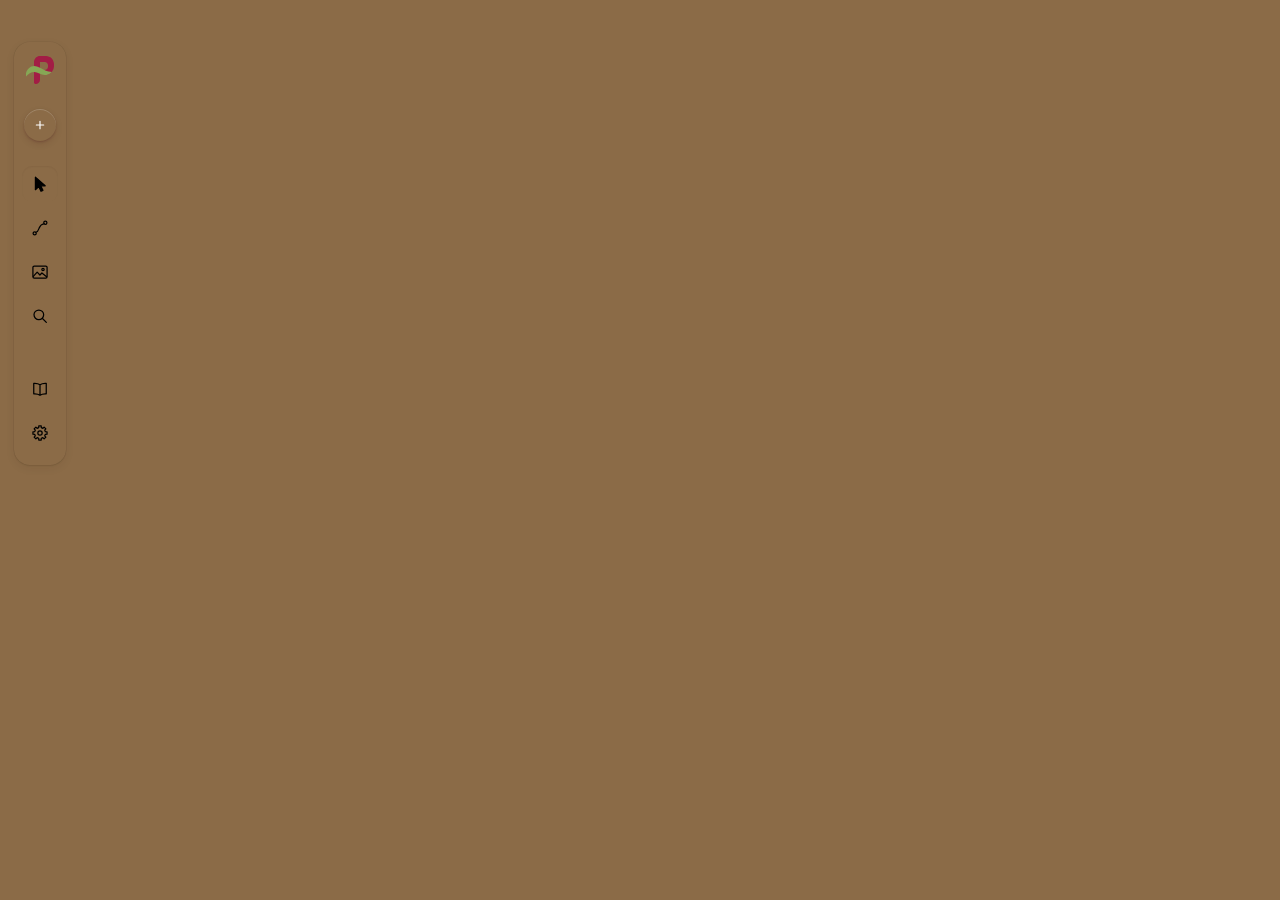
Test: sidebar › Yarn opens the colour picker on the last colour; a colour arms the tool in it
Later steps or results of the test are not shown.
Click the button named "Yarn" at {"x": 40, "y": 228}, box [22, 210, 58, 246]
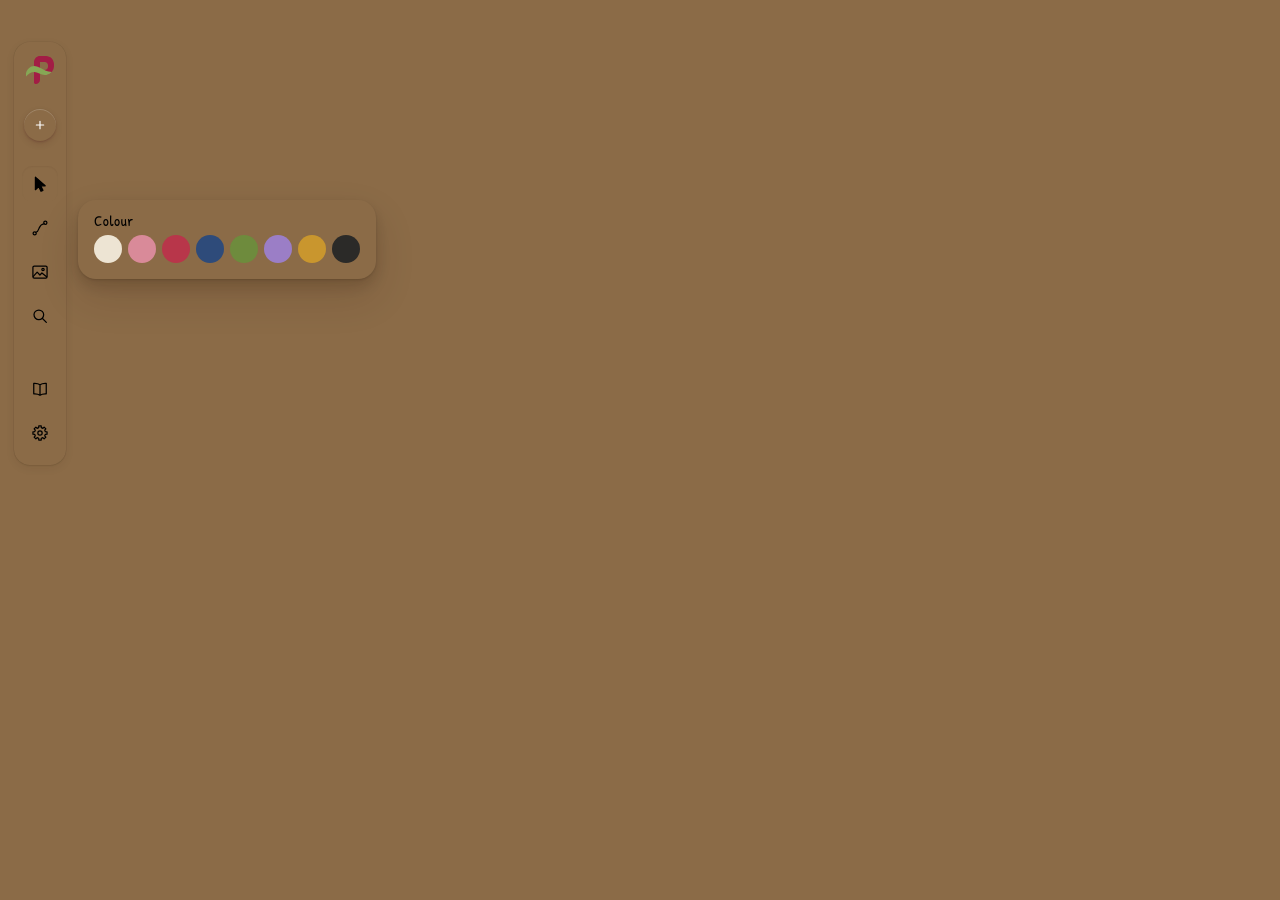
Now the radio button named "Moss" is checked, box [230, 235, 258, 263]
Note: One press on a colour chooses it: the picker goes, and the tool is armed in it.
Click the radio button named "Indigo" at {"x": 210, "y": 249}, box [196, 235, 224, 263]
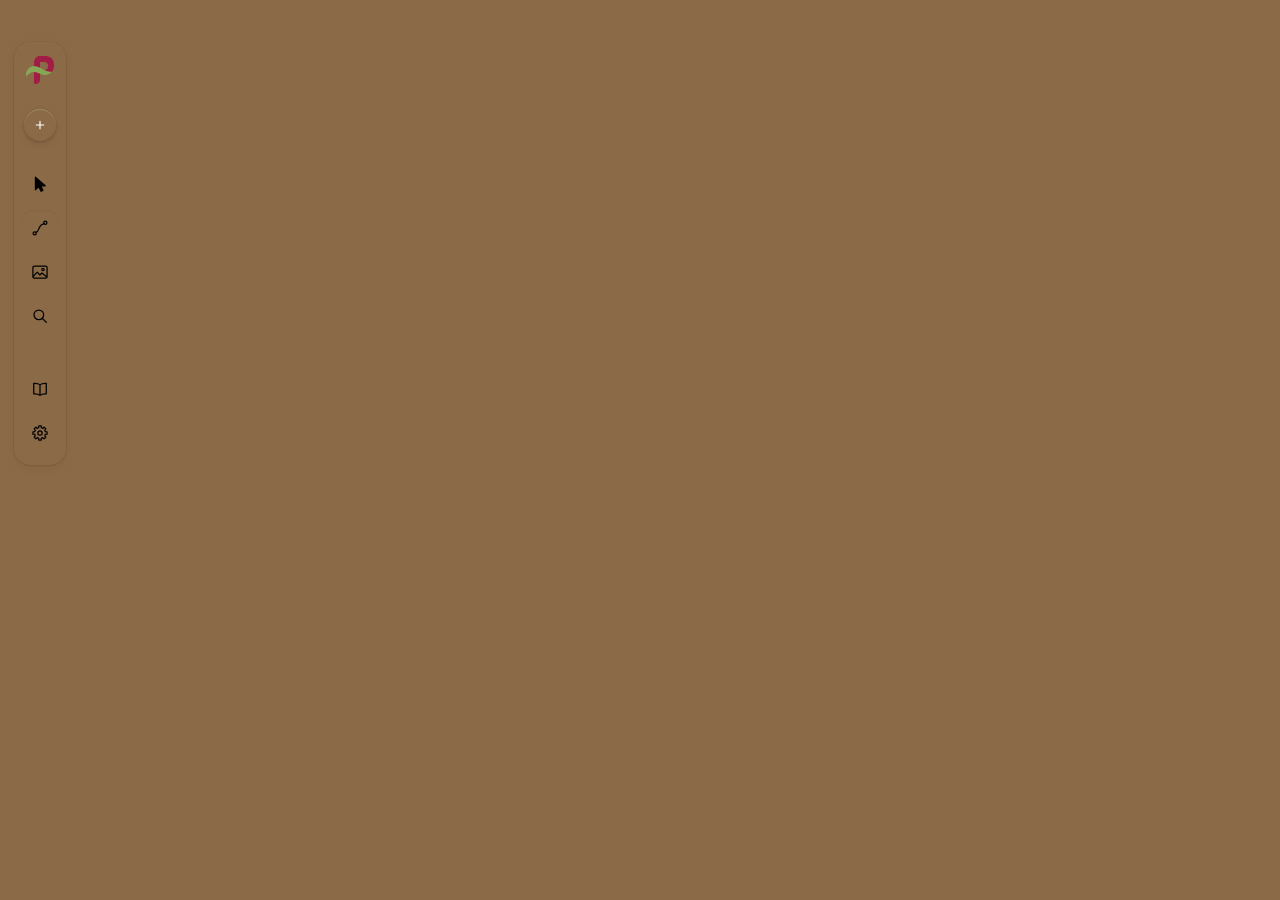
Now the dialog is gone
Note: Armed, Yarn opens it again, for the colour of the next threads.
Click the button named "Yarn" at {"x": 40, "y": 228}, box [22, 210, 58, 246]
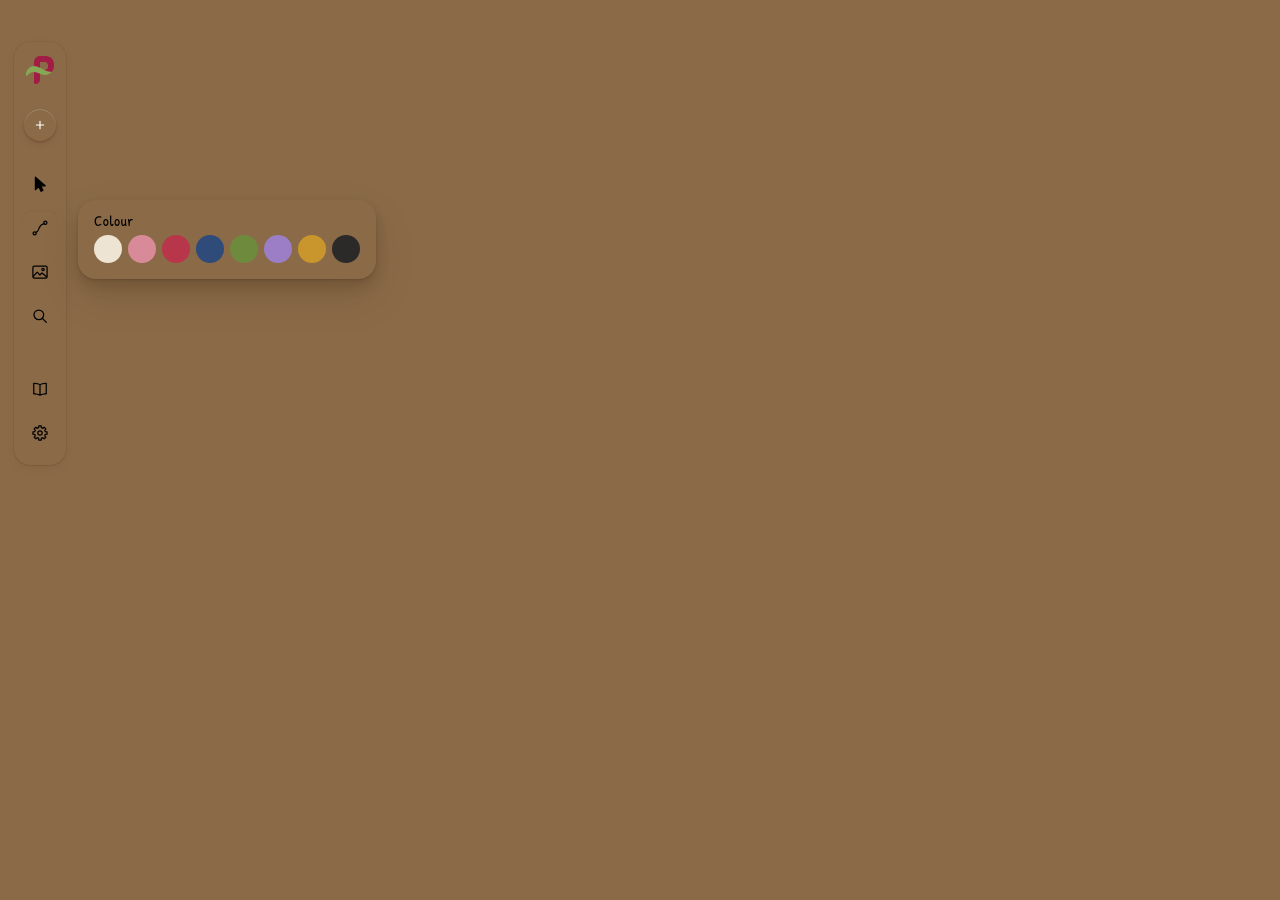
Now the radio button named "Indigo" is checked, box [196, 235, 224, 263]
